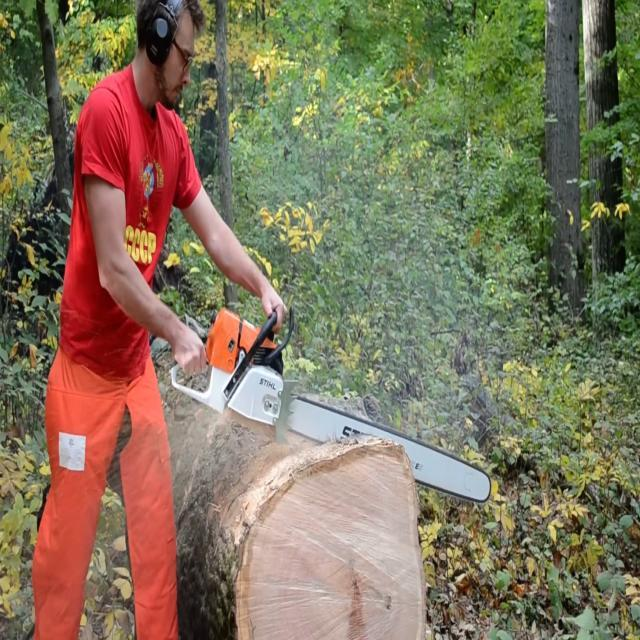Chainsaw: (163, 294, 497, 534)
